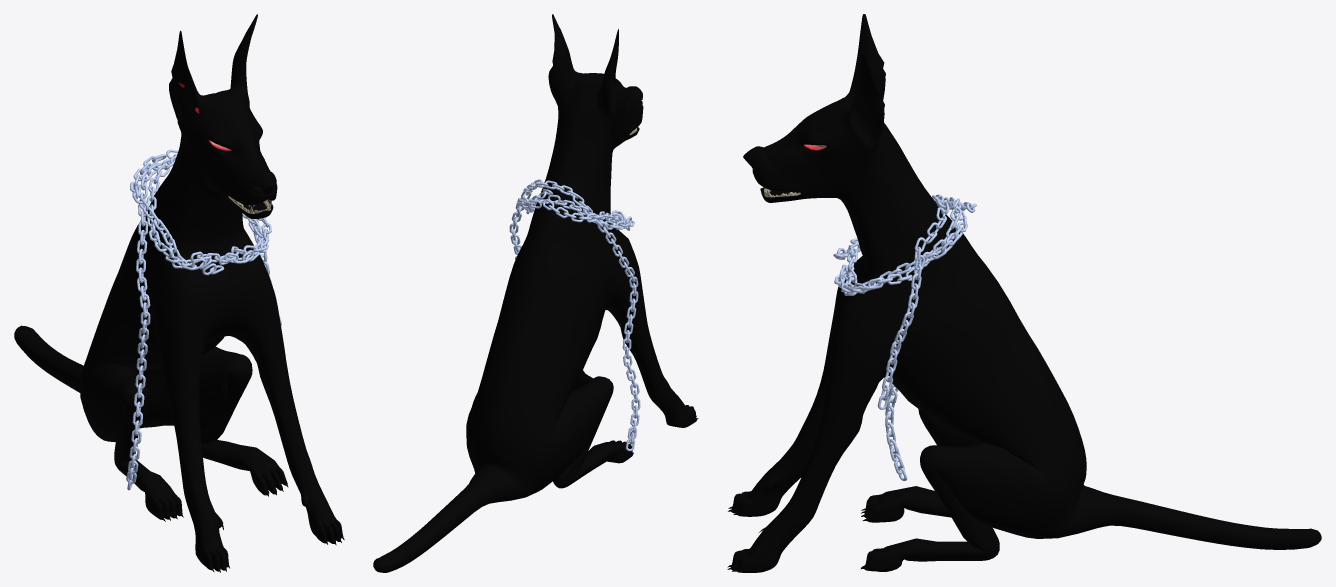
The model's file is per_perro.glb.
3 renders of one model, left to right at view 1: azimuth 30°, elevation 25°; view 2: azimuth 150°, elevation 25°; view 3: azimuth 270°, elevation 25°, orthographic. The views are drawn at different scales.
Parts seen in each view (by area): view 1: perro vivo, chain; view 2: perro vivo, chain; view 3: perro vivo, chain.
Part boxes in pixels (x1=…): perro vivo: x1=14, y1=14, x2=344, y2=572; chain: x1=126, y1=149, x2=281, y2=490; perro vivo: x1=373, y1=14, x2=698, y2=572; chain: x1=509, y1=179, x2=640, y2=451; perro vivo: x1=727, y1=14, x2=1321, y2=572; chain: x1=833, y1=194, x2=976, y2=481.
Bounding box in the file's own units: 0.2181 × 0.6937 × 0.7326.
4 materials, 1 textured.
